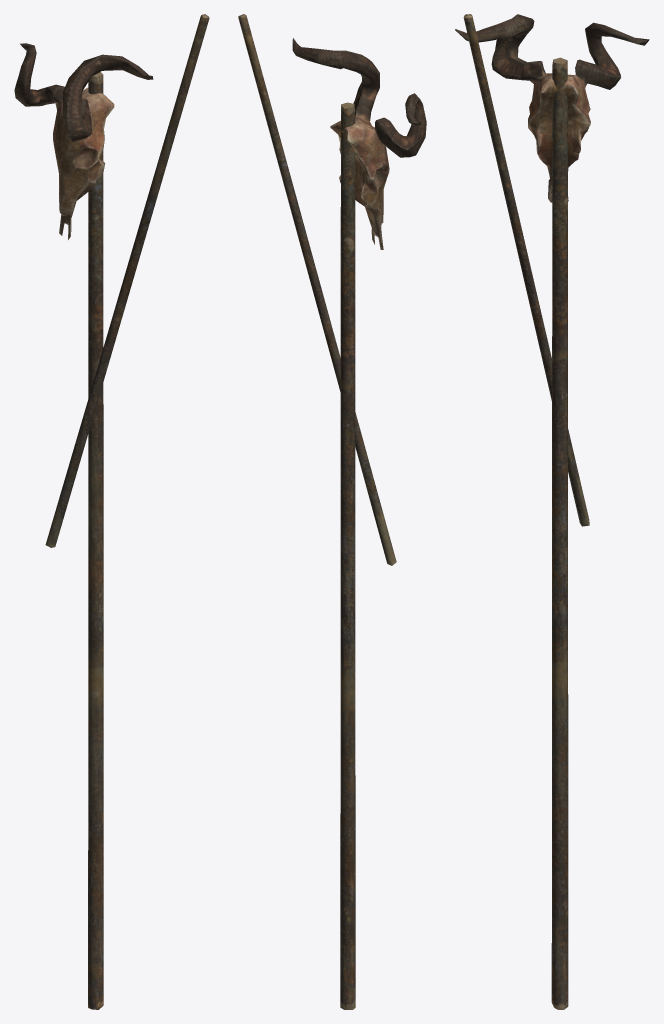
The model's file is SM_HornsSign.fbx.
3 views of the same model, side by side, from view 1: azimuth 30°, elevation 25°; view 2: azimuth 210°, elevation 25°; view 3: azimuth 270°, elevation 25° (orthographic). The views are drawn at different scales.
Visible parts, largest first — view 1: SM_HornsSign_LOD0; view 2: SM_HornsSign_LOD0; view 3: SM_HornsSign_LOD0.
Boxes of the visible parts, bbox=[...] form: SM_HornsSign_LOD0: bbox=[14, 14, 209, 1009]; SM_HornsSign_LOD0: bbox=[238, 14, 426, 1009]; SM_HornsSign_LOD0: bbox=[455, 14, 649, 1009].
Size of the model in its own units: 59.63 by 76.88 by 446.
1 material, 1 textured.
